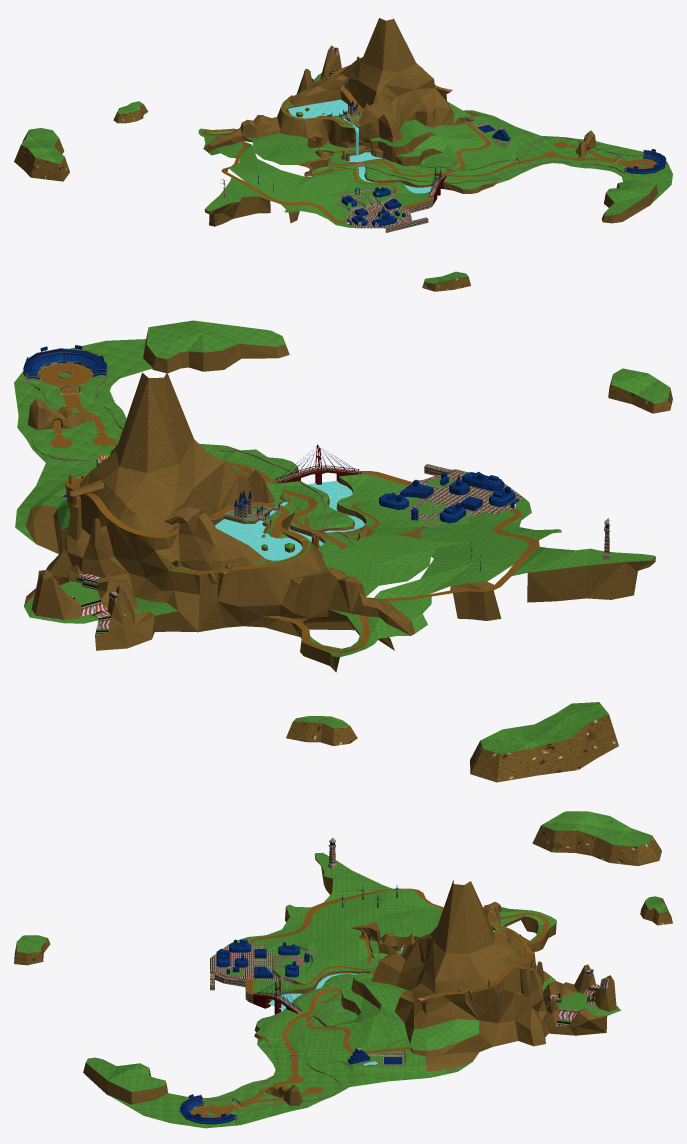
Rendered from uglymountain.glb.
3 renders of one model, top to bottom at view 1: azimuth 30°, elevation 25°; view 2: azimuth 150°, elevation 25°; view 3: azimuth 270°, elevation 25°, orthographic. The views are drawn at different scales.
Visible parts, largest first — view 1: Offroad, Walls, Road, ID27, ID159, ID35, ID149, ID133, ID185; view 2: Walls, Offroad, Road, ID27, ID159, ID35, ID149, ID133, ID185, ID195; view 3: Offroad, Walls, Road, ID27, ID159, ID35, ID195, ID133.
Part boxes in pixels (left/top/right/bottom): Offroad: left=198, top=73, right=672, bottom=228; Walls: left=203, top=17, right=657, bottom=232; Road: left=202, top=65, right=656, bottom=223; ID27: left=14, top=104, right=470, bottom=291; ID159: left=223, top=100, right=666, bottom=226; ID35: left=21, top=101, right=467, bottom=283; ID149: left=288, top=99, right=347, bottom=118; ID133: left=287, top=84, right=666, bottom=194; ID185: left=345, top=152, right=432, bottom=193; Walls: left=24, top=329, right=655, bottom=672; Offroad: left=14, top=320, right=655, bottom=657; Road: left=37, top=362, right=610, bottom=653; ID27: left=286, top=376, right=672, bottom=782; ID159: left=23, top=345, right=609, bottom=570; ID35: left=293, top=368, right=670, bottom=754; ID149: left=215, top=519, right=302, bottom=560; ID133: left=23, top=348, right=360, bottom=549; ID185: left=290, top=481, right=364, bottom=545; ID195: left=276, top=444, right=361, bottom=484; Offroad: left=86, top=852, right=620, bottom=1128; Walls: left=83, top=848, right=616, bottom=1116; Road: left=190, top=837, right=549, bottom=1117; ID27: left=14, top=825, right=672, bottom=965; ID159: left=179, top=842, right=402, bottom=1124; ID35: left=16, top=811, right=667, bottom=953; ID195: left=253, top=980, right=302, bottom=1014; ID133: left=179, top=934, right=527, bottom=1121.
Size of what is drawn, in the model's own units: 1562 by 358 by 1458.
15 materials, 15 textured.
